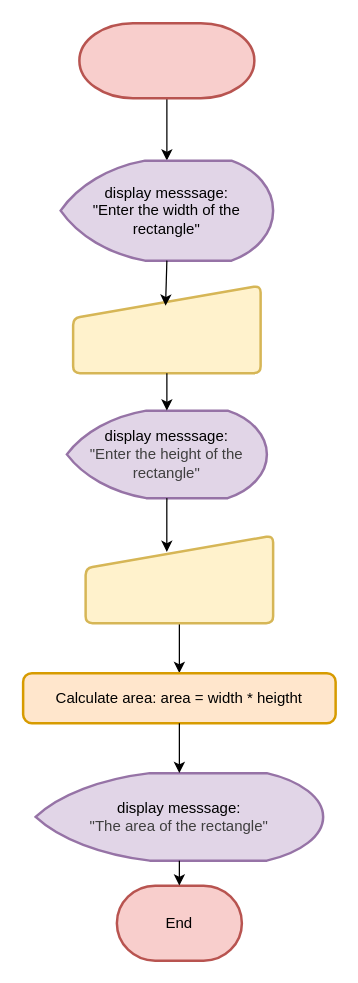
Some shapes in this 358 by 983 pixel diagram are drawn without their labels. Here are the shapes that lost their labels. From the top down, the centre of each, then its label:
(x=166, y=60): Start
(x=166, y=329): Read width input
(x=179, y=579): Read height input
